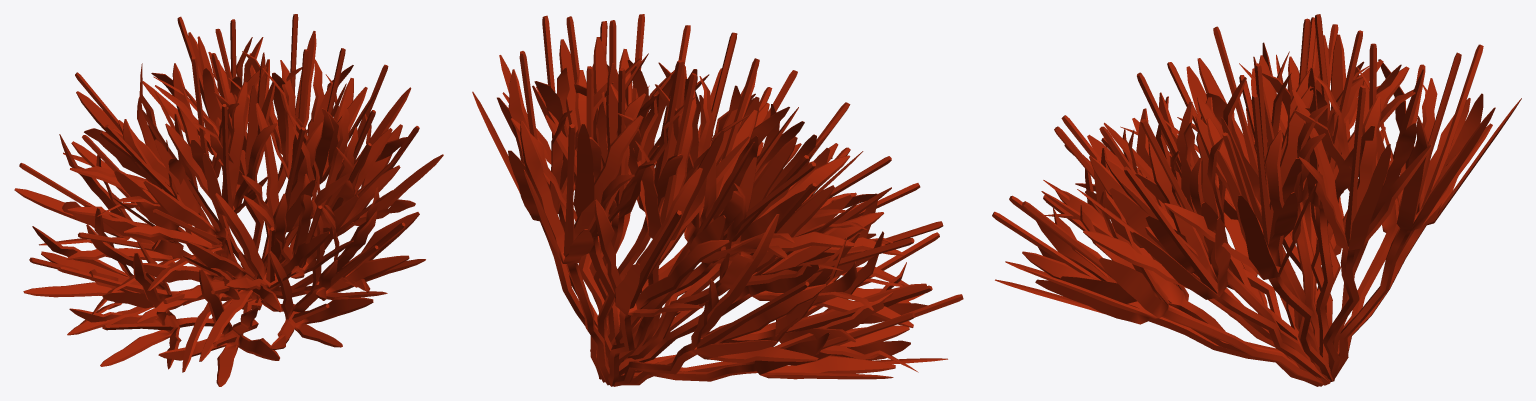
The model's file is honghua.FBX.
3 renders of one model, left to right at view 1: azimuth 30°, elevation 25°; view 2: azimuth 150°, elevation 25°; view 3: azimuth 270°, elevation 25°, orthographic. The views are drawn at different scales.
Visible parts, largest first — view 1: pCylinder4, pCylinder20, pCylinder5, pCylinder27, pCylinder15, pCylinder13, pCylinder30, pCylinder28, pCylinder14, pCylinder32, pCylinder25, pCylinder19 (+20 smaller); view 2: pCylinder9, pCylinder11, pCylinder10, pCylinder12, pCylinder21, pCylinder8, pCylinder3, pCylinder2, pCylinder33, pCylinder27, pCylinder18, pCylinder26 (+19 smaller); view 3: pCylinder8, pCylinder17, pCylinder16, pCylinder7, pCylinder9, pCylinder26, pCylinder31, pCylinder6, pCylinder15, pCylinder10, pCylinder2, pCylinder29 (+18 smaller).
Boxes of the visible parts, x1=… form: pCylinder4: x1=165, y1=82, x2=277, y2=299; pCylinder20: x1=123, y1=178, x2=242, y2=291; pCylinder5: x1=242, y1=103, x2=351, y2=278; pCylinder27: x1=41, y1=224, x2=251, y2=335; pCylinder15: x1=260, y1=251, x2=373, y2=350; pCylinder13: x1=69, y1=253, x2=256, y2=369; pCylinder30: x1=271, y1=200, x2=409, y2=300; pCylinder28: x1=215, y1=193, x2=329, y2=297; pCylinder14: x1=158, y1=269, x2=279, y2=386; pCylinder32: x1=155, y1=53, x2=275, y2=278; pCylinder25: x1=70, y1=113, x2=235, y2=279; pCylinder19: x1=177, y1=241, x2=281, y2=361; pCylinder9: x1=520, y1=115, x2=643, y2=385; pCylinder11: x1=613, y1=214, x2=826, y2=386; pCylinder10: x1=594, y1=167, x2=729, y2=386; pCylinder12: x1=623, y1=237, x2=914, y2=385; pCylinder21: x1=619, y1=201, x2=914, y2=374; pCylinder8: x1=472, y1=51, x2=607, y2=382; pCylinder3: x1=610, y1=73, x2=749, y2=362; pCylinder2: x1=511, y1=66, x2=659, y2=367; pCylinder33: x1=628, y1=157, x2=842, y2=359; pCylinder27: x1=644, y1=232, x2=932, y2=372; pCylinder18: x1=604, y1=142, x2=854, y2=381; pCylinder26: x1=545, y1=63, x2=695, y2=363; pCylinder8: x1=1292, y1=85, x2=1432, y2=381; pCylinder17: x1=1083, y1=139, x2=1330, y2=382; pCylinder16: x1=1022, y1=156, x2=1323, y2=383; pCylinder7: x1=1164, y1=118, x2=1333, y2=381; pCylinder9: x1=1335, y1=52, x2=1495, y2=377; pCylinder26: x1=1288, y1=30, x2=1415, y2=381; pCylinder31: x1=1195, y1=85, x2=1330, y2=385; pCylinder6: x1=1105, y1=97, x2=1325, y2=384; pCylinder15: x1=992, y1=169, x2=1309, y2=382; pCylinder10: x1=1338, y1=44, x2=1521, y2=354; pCylinder2: x1=1293, y1=43, x2=1424, y2=361; pCylinder29: x1=1077, y1=101, x2=1323, y2=385.
Bounding box in the file's own units: 0.3693 × 0.2679 × 0.377.
Materials: 1 (1 with a texture image).
